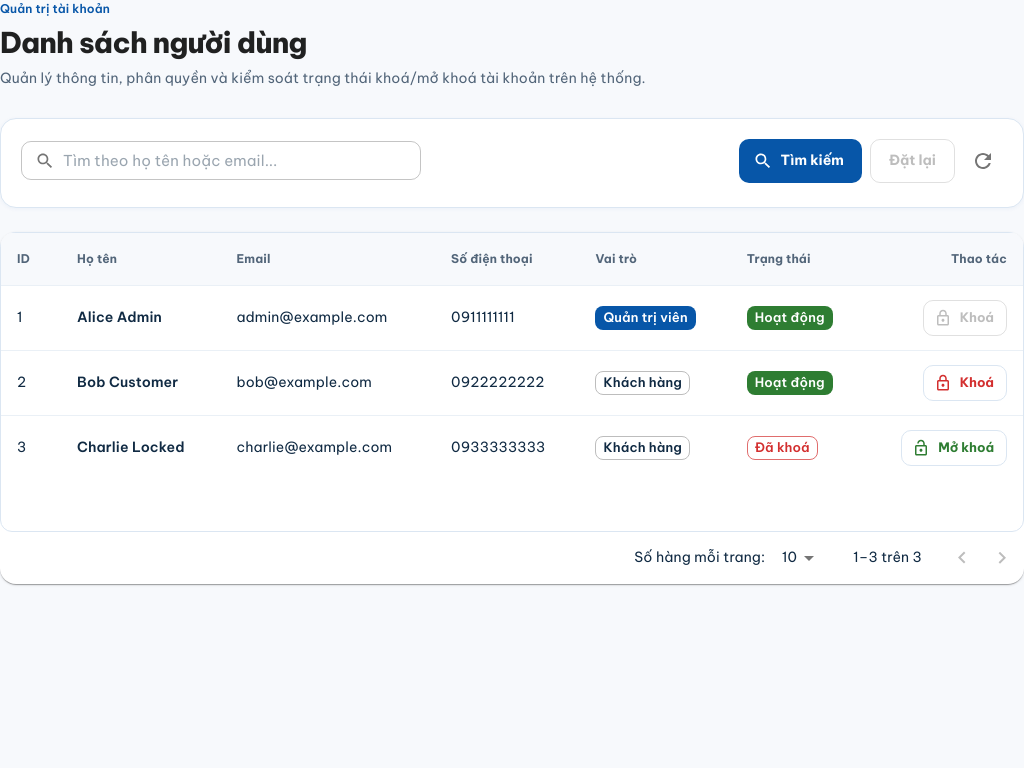
it: AdminUsersPage › unlocks a locked user account after confirmation
Expected: the text "Charlie Locked" is shown, [77,438,185,456]
Note: Click unlock on Charlie Locked
Step 1. Click the button "Mở khoá" → click(954, 448), box [901,430,1007,466]
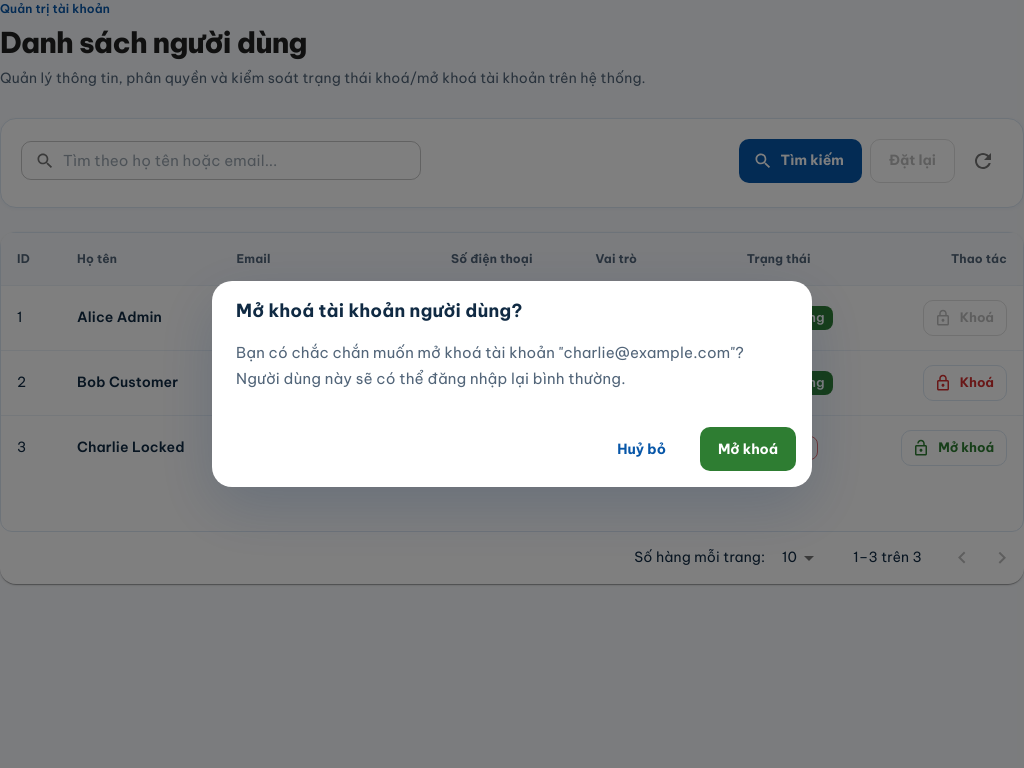
Result: the dialog is shown at [212,281,812,487]
Result: the heading "Mở khoá tài khoản người dùng?" is shown at [236,299,523,322]
Note: Confirm unlock
Step 2. Click the button "Mở khoá" → click(748, 449), box [700,427,796,471]
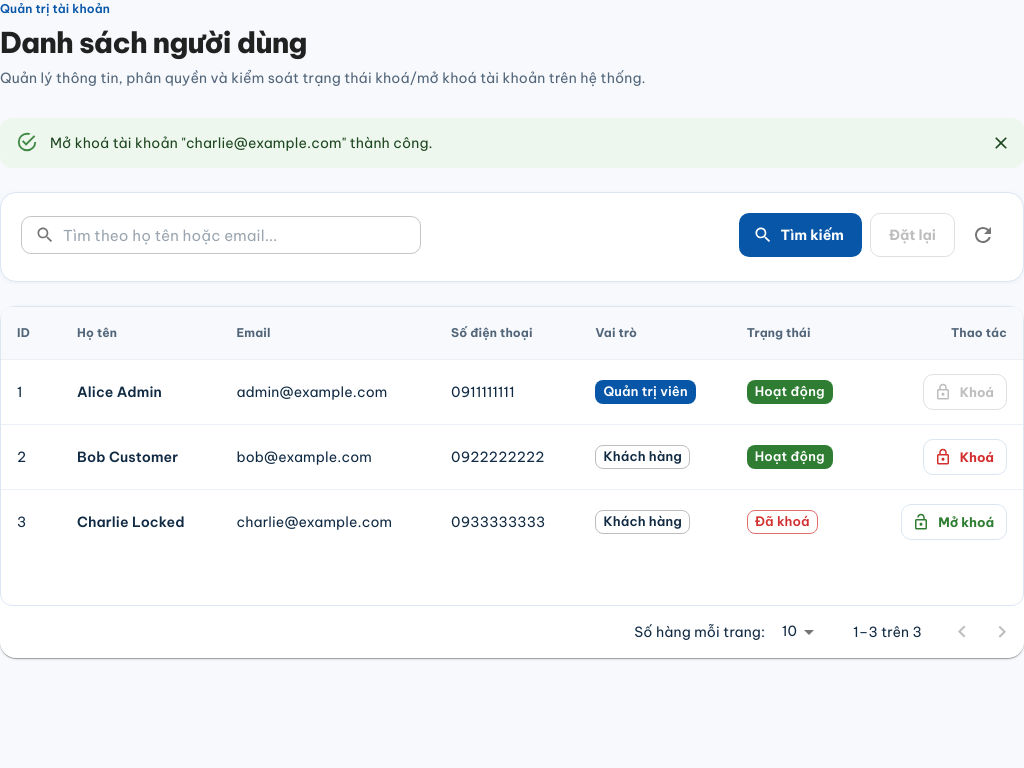
Result: the text "Mở khoá tài khoản \"charlie@example.com\" thành công." is shown at [50,134,433,152]
